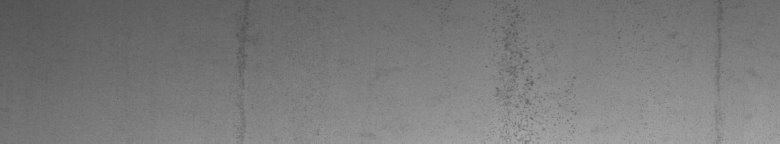ib: (496, 4, 571, 136)
